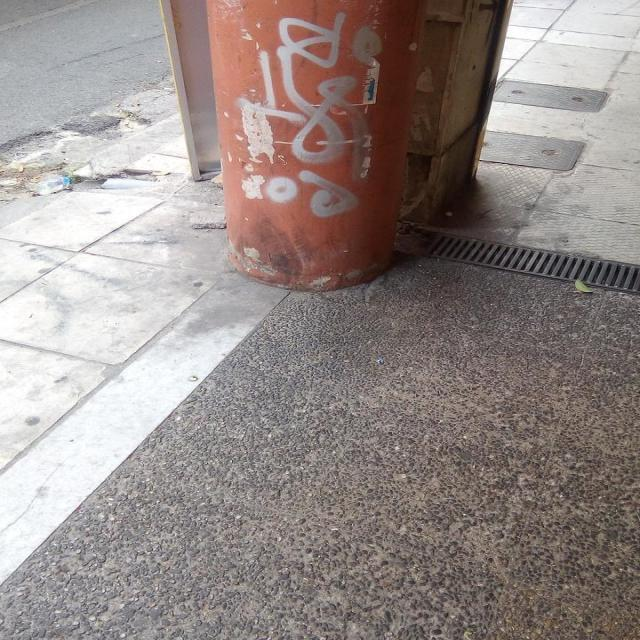nonspitting: (240, 13, 383, 218)
